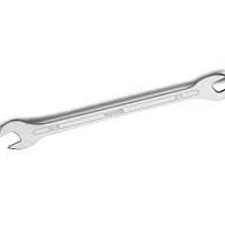Wrench: (1, 60, 225, 150)
